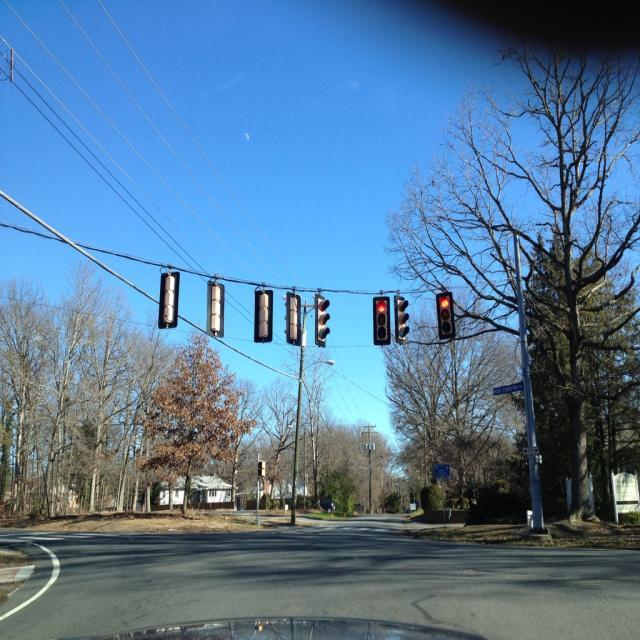traffic light: (312, 296, 333, 346), (436, 291, 454, 338), (394, 293, 411, 341), (376, 297, 390, 340)
